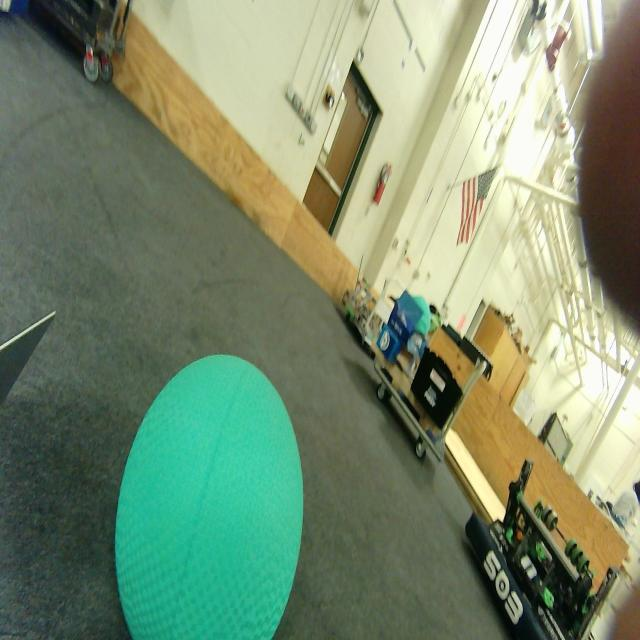algae: (115, 355, 302, 639)
